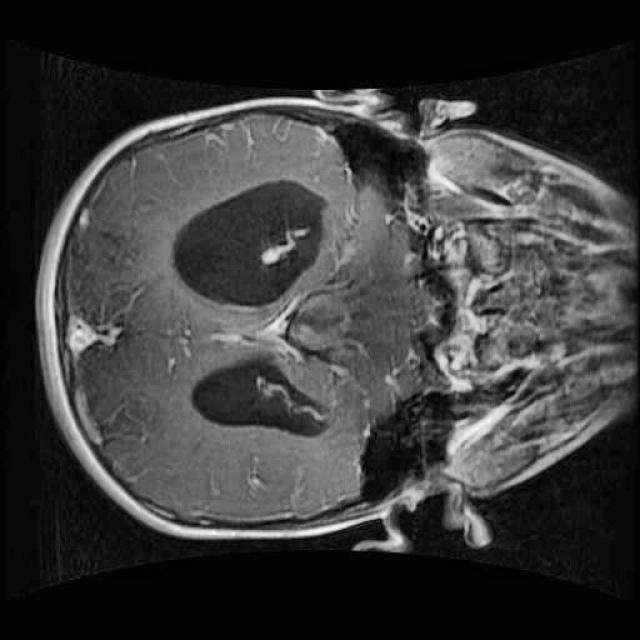Non-Tumor: (281, 284, 375, 364)
